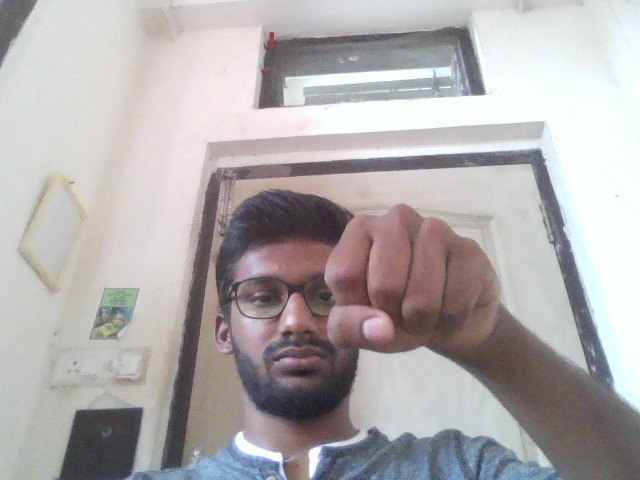No: (323, 202, 504, 363)
